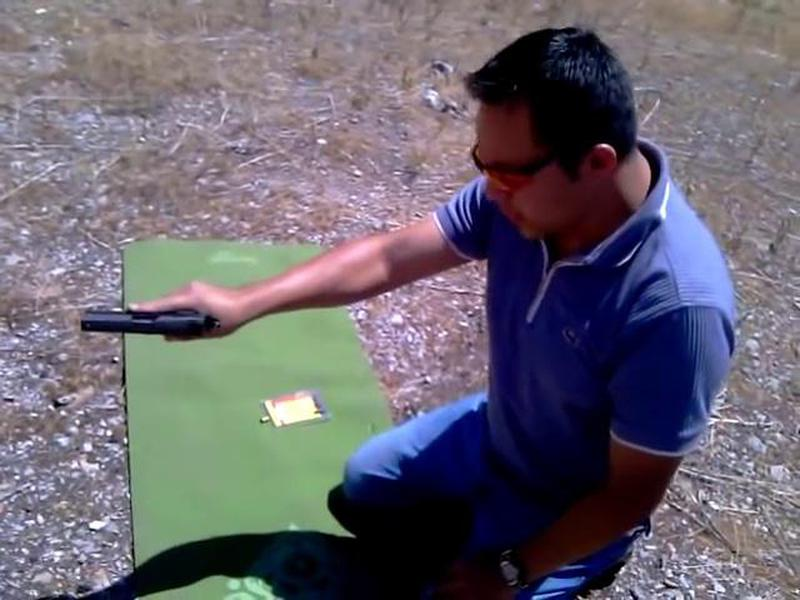Pistola: (73, 291, 238, 349)
